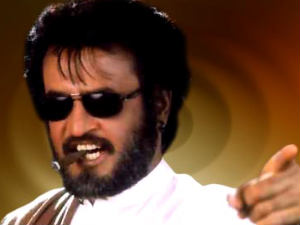cigarette: (45, 149, 90, 170)
